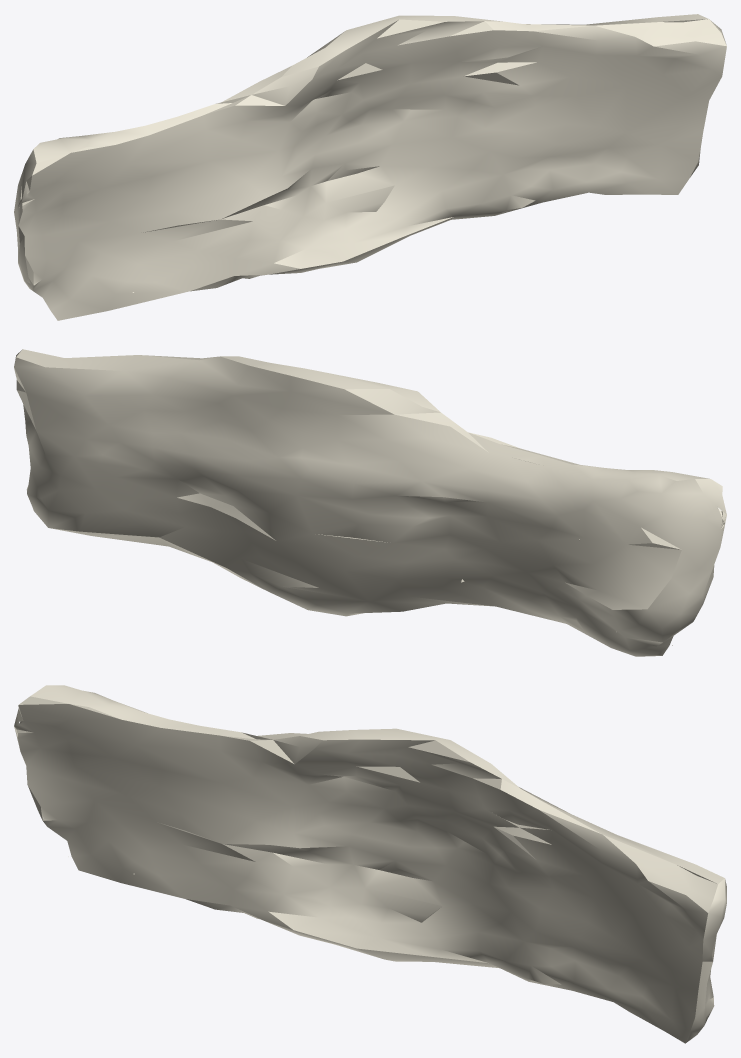
Rendered from fma24961_mm1518.glb.
3 views of the same model, one above another, from view 1: azimuth 30°, elevation 25°; view 2: azimuth 150°, elevation 25°; view 3: azimuth 330°, elevation 25° (orthographic).
Parts seen in each view (by area): view 1: FMA24961_MM1518; view 2: FMA24961_MM1518; view 3: FMA24961_MM1518.
Boxes of the visible parts, x1,y1,x2,y2 form: FMA24961_MM1518: (14,14,726,320); FMA24961_MM1518: (14,349,726,656); FMA24961_MM1518: (14,685,726,1043).
Bounding box in the file's own units: 0.028 × 0.0089 × 0.00346.
